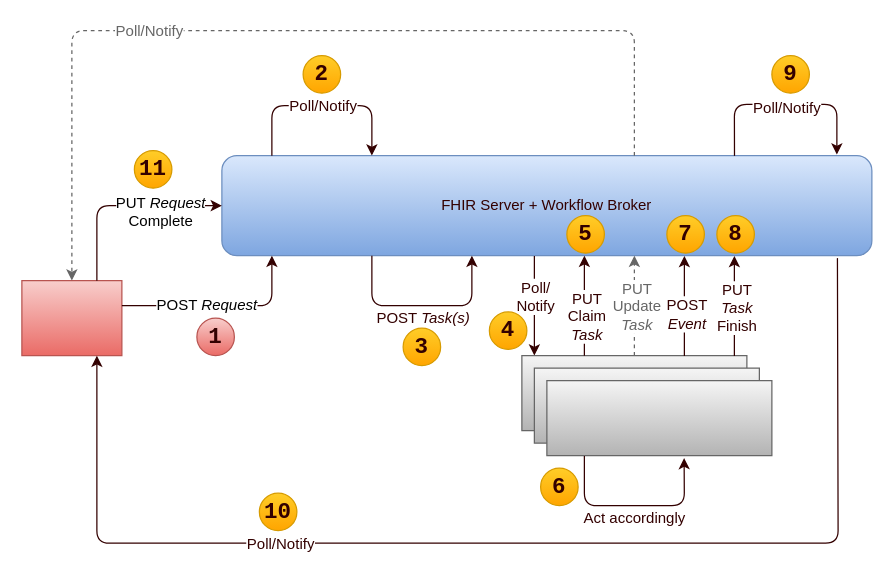
The diagram is 894 pixels wide and 575 high, and some of its shapes have lost their labels. The centre of each missing label's shape, as x and y in pixels:
"Filler" belongs at point 659,417.
"Placer" belongs at point 71,317.
